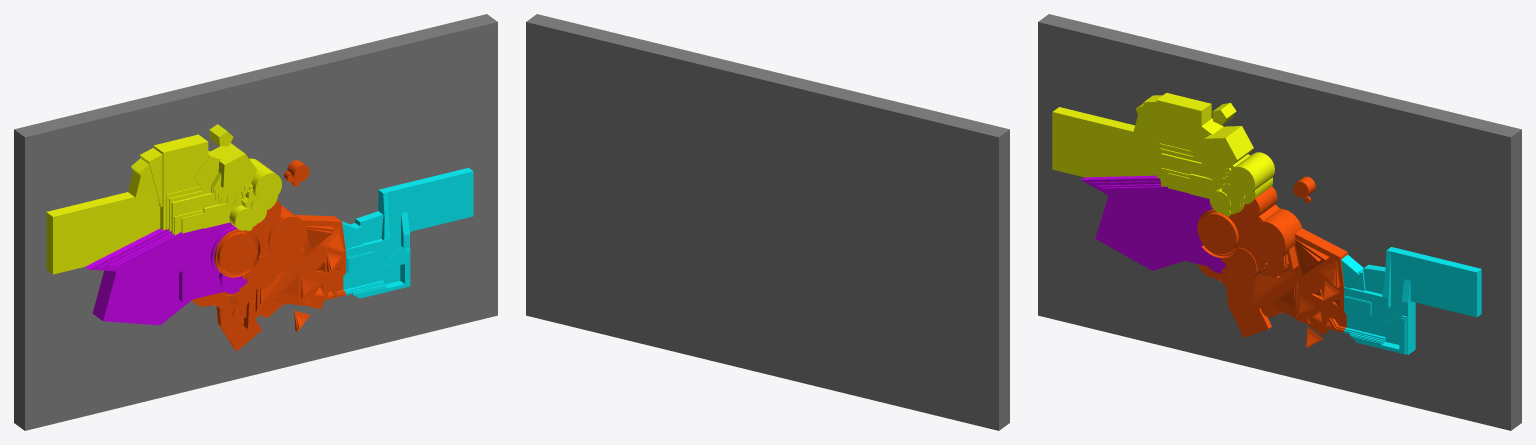
The model's file is Base_only.fbx.
3 renders of one model, left to right at view 1: azimuth 30°, elevation 25°; view 2: azimuth 150°, elevation 25°; view 3: azimuth 330°, elevation 25°, orthographic.
Visible parts, largest first — view 1: Base; view 2: Base; view 3: Base.
Part boxes in pixels (left/top/right/bottom): Base: left=14, top=14, right=497, bottom=430; Base: left=526, top=14, right=1009, bottom=430; Base: left=1038, top=14, right=1521, bottom=430.
Size of the model in its own units: 637 by 378 by 72.45.
